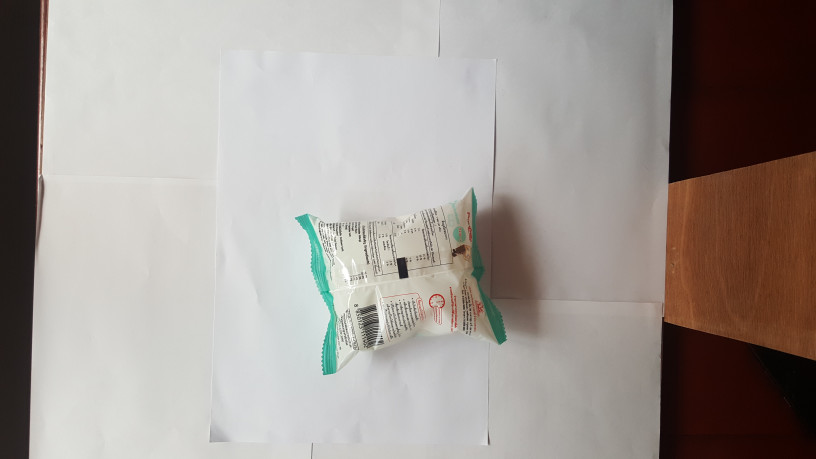farmhouse-sweetsandwich-chocolate: (292, 186, 514, 373)
